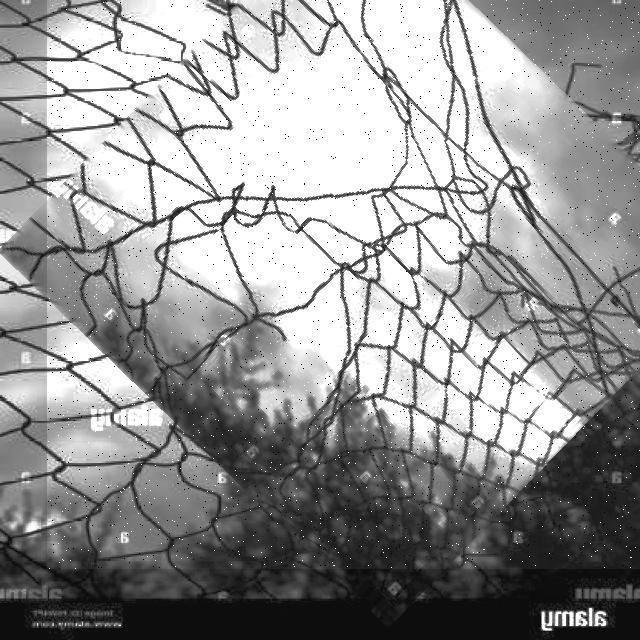anomaly-fence: (47, 0, 640, 569)
